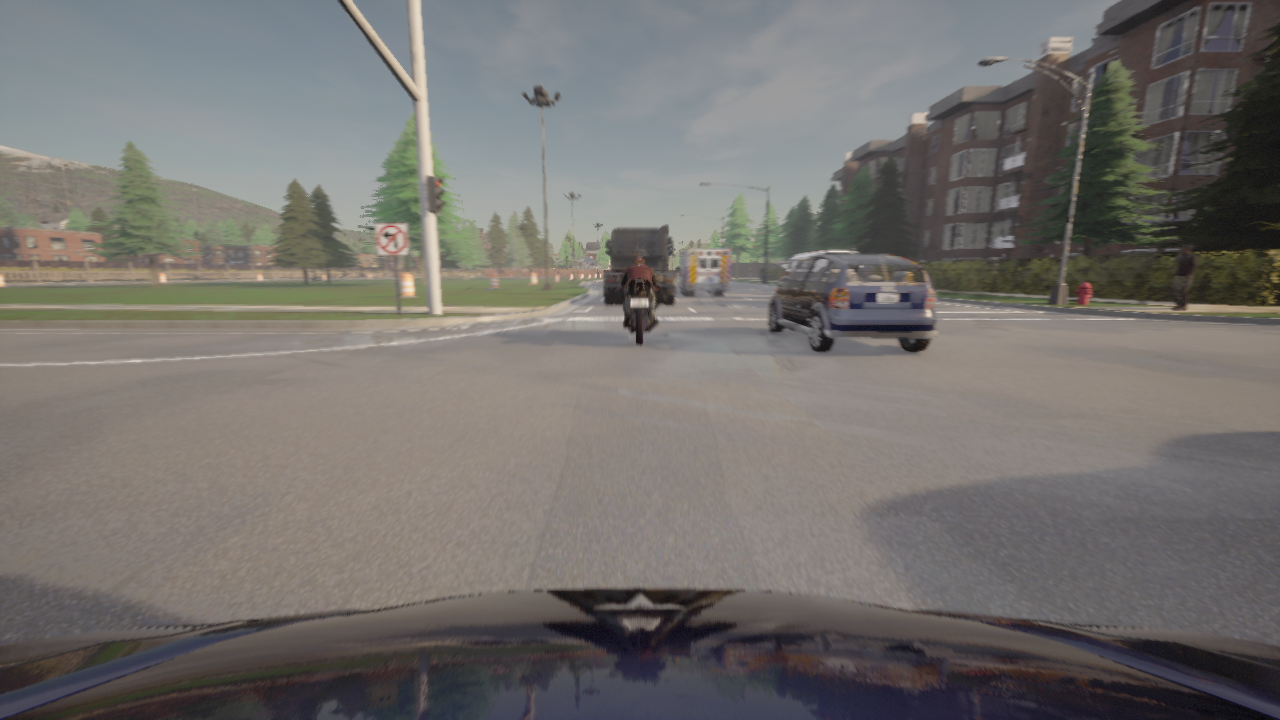cyclist: (0, 588, 1279, 719), (768, 253, 936, 352), (604, 225, 675, 303), (617, 274, 661, 345), (676, 249, 731, 295), (783, 250, 857, 275)
pedestrian: (1171, 244, 1197, 309)
